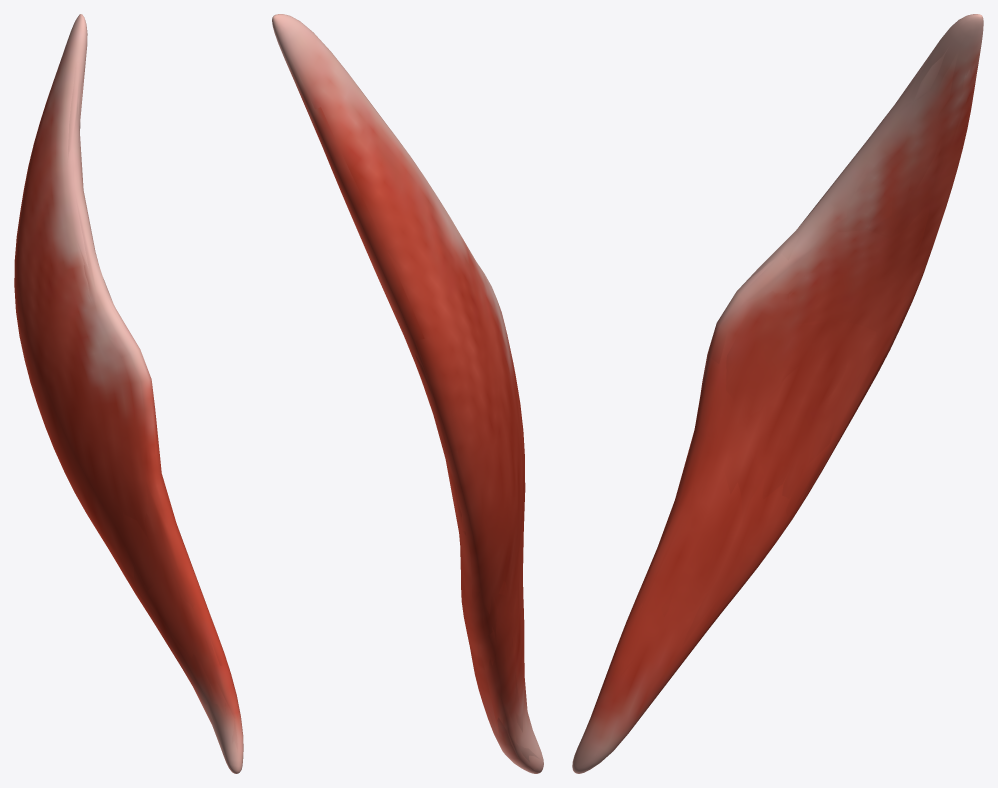
Rendered from R Teres Major.fbx.
3 renders of one model, left to right at view 1: azimuth 30°, elevation 25°; view 2: azimuth 150°, elevation 25°; view 3: azimuth 270°, elevation 25°, orthographic. The views are drawn at different scales.
Parts seen in each view (by area): view 1: R Teres Major, R Teres Major low; view 2: R Teres Major, R Teres Major low; view 3: R Teres Major, R Teres Major low.
Part boxes in pixels (x1,y1,x2,y2): R Teres Major: (14,14,243,773); R Teres Major low: (24,24,238,757); R Teres Major: (272,14,543,773); R Teres Major low: (298,60,540,772); R Teres Major: (572,14,983,773); R Teres Major low: (592,17,975,767).
Bounding box in the file's own units: 7.09 × 44.08 × 21.47.
